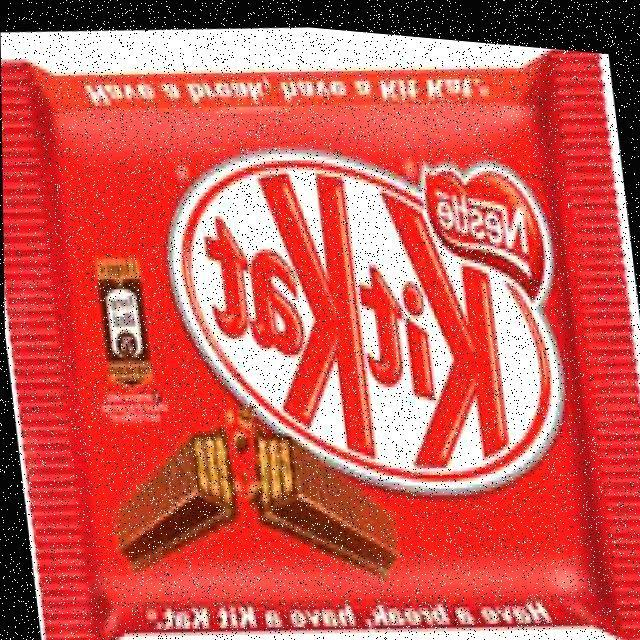kitkat_chocolate: (3, 63, 640, 640)
